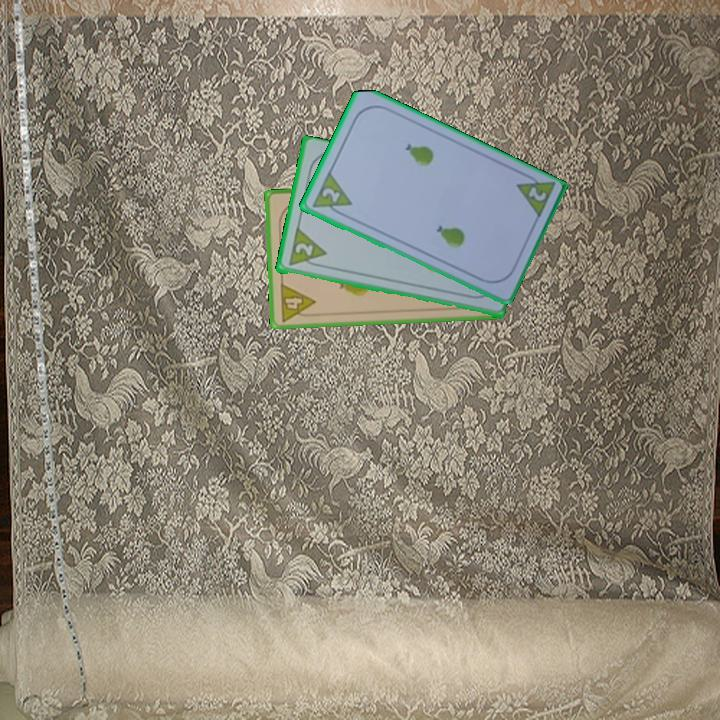2p: (308, 168, 354, 220), (524, 183, 549, 205), (291, 239, 316, 260)
4p: (276, 280, 318, 324)
